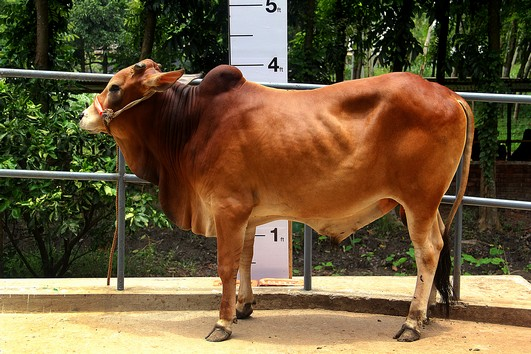cow: (71, 53, 480, 345)
